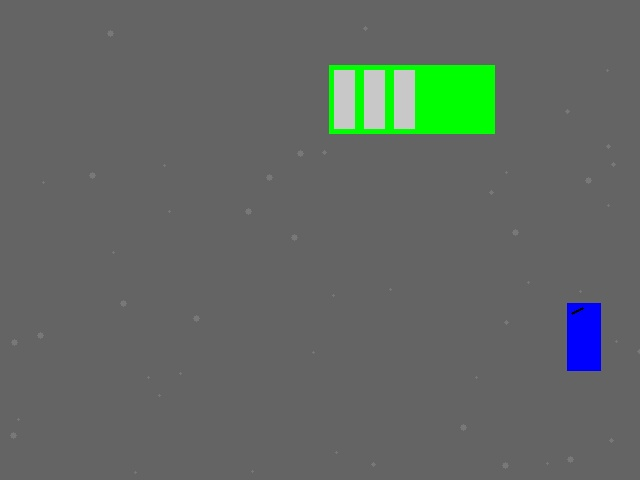bus: (329, 65, 494, 133)
motorcycle: (567, 303, 600, 370)
